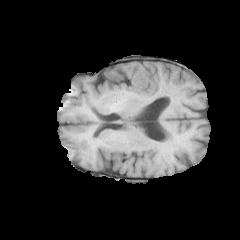glioma: (104, 65, 159, 103)
